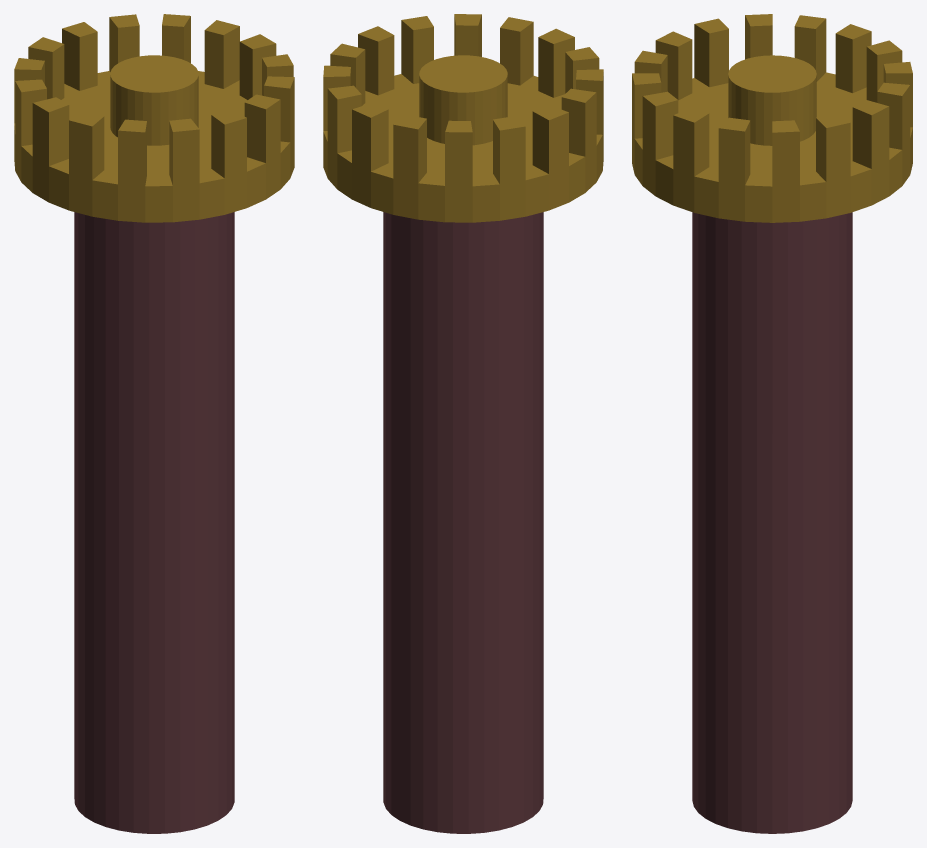
Rendered from tower.fbx.
3 renders of one model, left to right at view 1: azimuth 30°, elevation 25°; view 2: azimuth 150°, elevation 25°; view 3: azimuth 270°, elevation 25°, orthographic.
Parts seen in each view (by area): view 1: Cylinder, Cylinder.001; view 2: Cylinder, Cylinder.001; view 3: Cylinder, Cylinder.001.
Part boxes in pixels (x1=…): Cylinder: x1=74, y1=212, x2=234, y2=833; Cylinder.001: x1=14, y1=14, x2=294, y2=222; Cylinder: x1=383, y1=212, x2=543, y2=833; Cylinder.001: x1=323, y1=14, x2=603, y2=222; Cylinder: x1=692, y1=212, x2=852, y2=833; Cylinder.001: x1=632, y1=14, x2=912, y2=222.
Bounding box in the file's own units: 1400 × 3996 × 1400.
